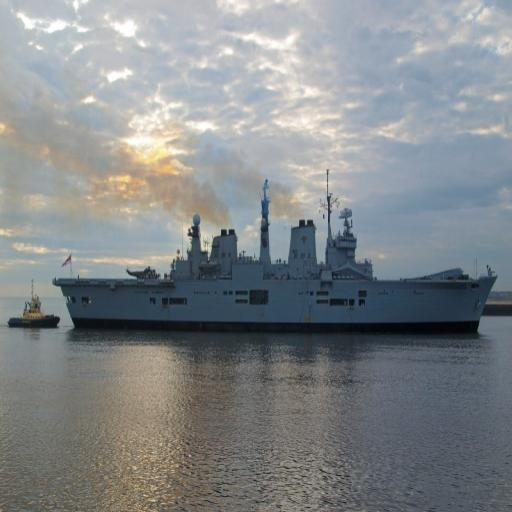Portanaves: (50, 163, 502, 341)
